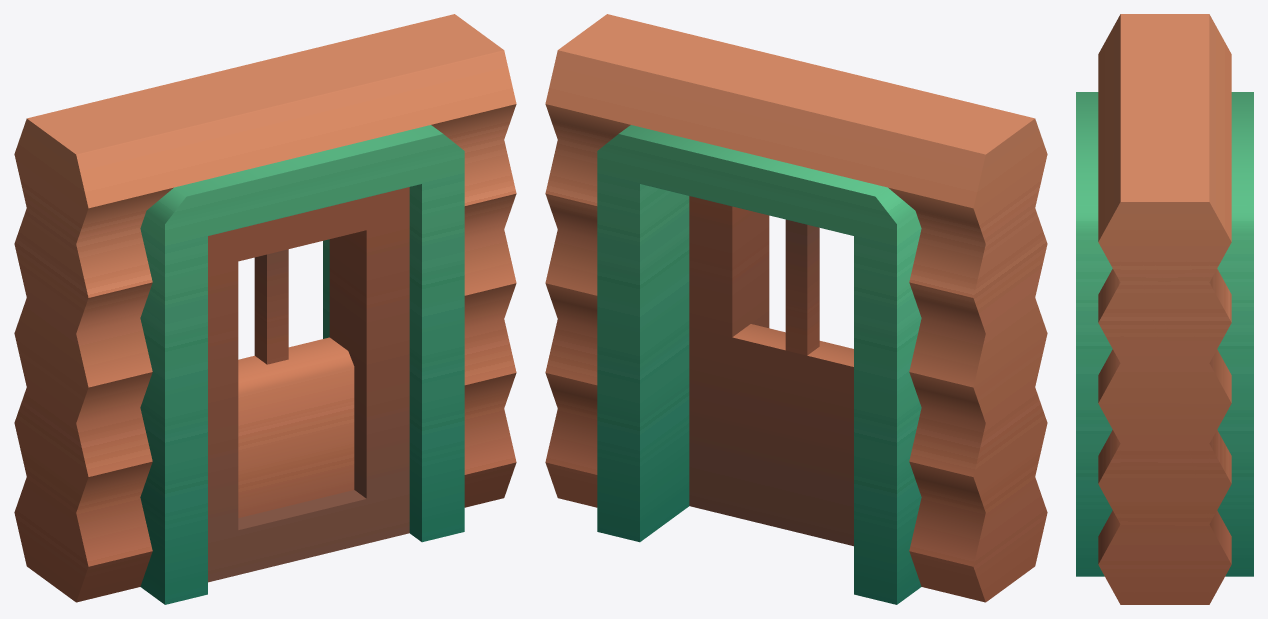
Rendered from cabin-door-rotate.glb.
3 renders of one model, left to right at view 1: azimuth 30°, elevation 25°; view 2: azimuth 150°, elevation 25°; view 3: azimuth 270°, elevation 25°, orthographic. The views are drawn at different scales.
Parts seen in each view (by area): view 1: cabin-door-rotate, door; view 2: cabin-door-rotate, door; view 3: cabin-door-rotate.
Part boxes in pixels (x1,y1,x2,y2): cabin-door-rotate: [14, 14, 516, 604]; door: [208, 187, 409, 582]; cabin-door-rotate: [545, 14, 1047, 604]; door: [689, 196, 853, 546]; cabin-door-rotate: [1076, 14, 1253, 604].
Size of the model in its own units: 1 by 1 by 0.3999.
Materials: 1 (1 with a texture image).
